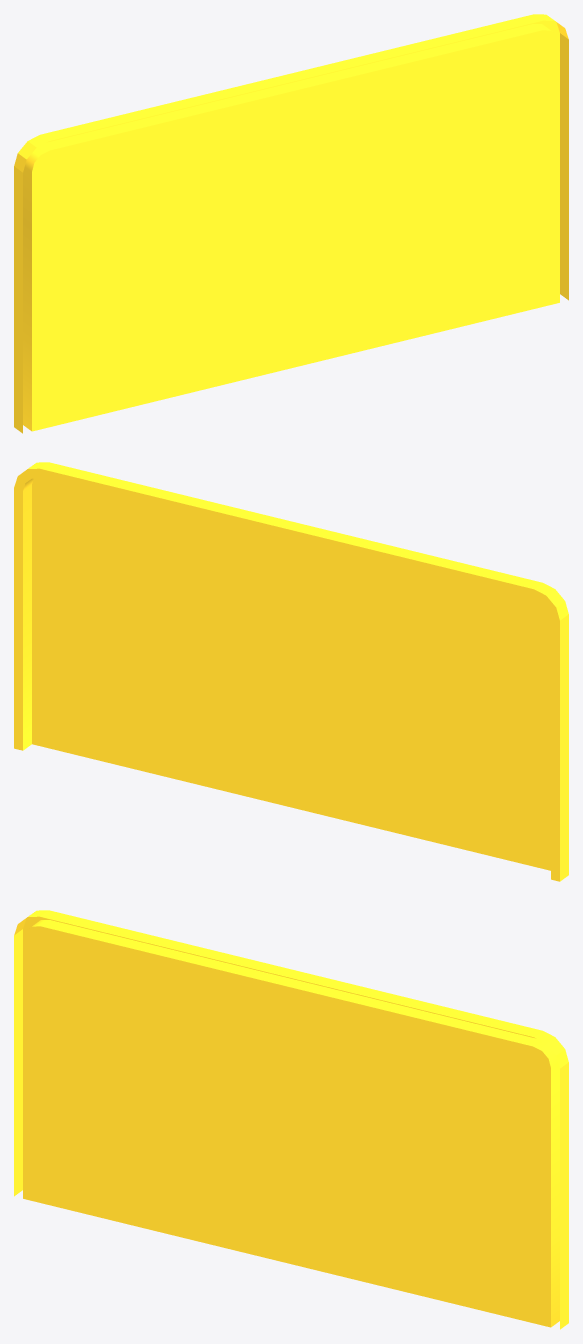
Rendered from highlight_frame.glb.
The picture shows the model from 3 angles, top to bottom: view 1: azimuth 30°, elevation 25°; view 2: azimuth 150°, elevation 25°; view 3: azimuth 330°, elevation 25°; orthographic projection.
Parts seen in each view (by area): view 1: title_plane.001; view 2: title_plane.001; view 3: title_plane.001.
Boxes of the visible parts, x1,y1,x2,y2 form: title_plane.001: (14,14,568,433); title_plane.001: (14,462,568,881); title_plane.001: (14,910,568,1329).
Size of the model in its own units: 1.65 by 0.8282 by 0.0469.
